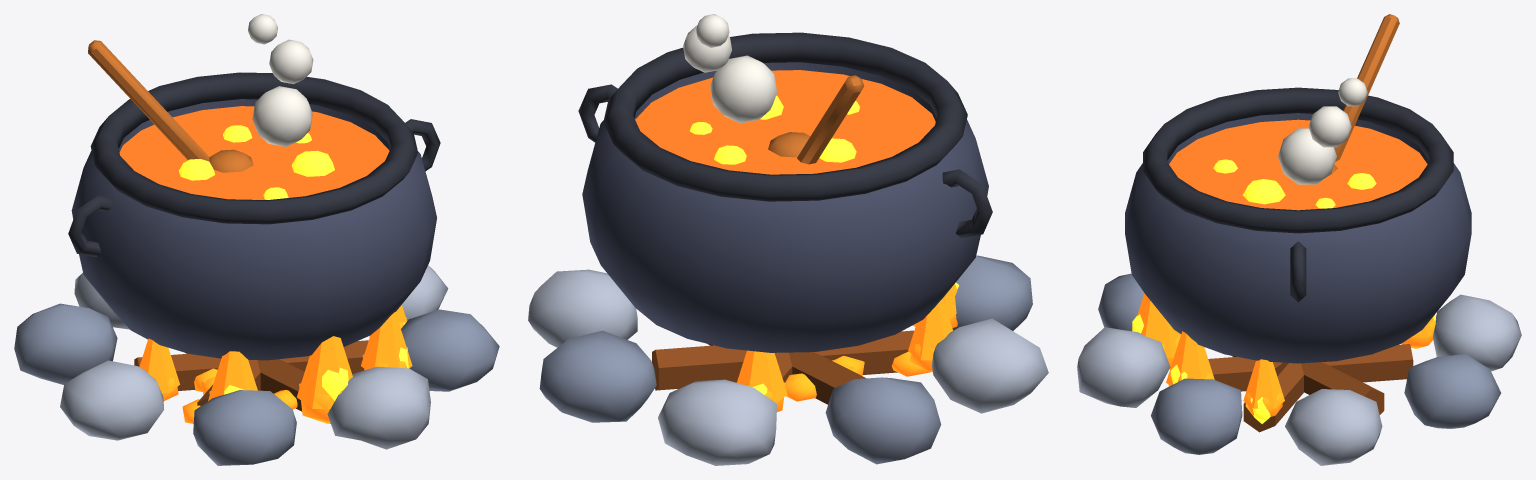
The model's file is kitchen.glb.
The picture shows the model from 3 angles, left to right: view 1: azimuth 30°, elevation 25°; view 2: azimuth 150°, elevation 25°; view 3: azimuth 270°, elevation 25°; orthographic projection. The views are drawn at different scales.
Parts seen in each view (by area): view 1: kitchen; view 2: kitchen; view 3: kitchen.
Boxes of the visible parts, x1,y1,x2,y2 form: kitchen: [14, 14, 499, 465]; kitchen: [528, 14, 1048, 465]; kitchen: [1077, 14, 1521, 465].
Size of the model in its own units: 2.02 by 1.58 by 1.96.
